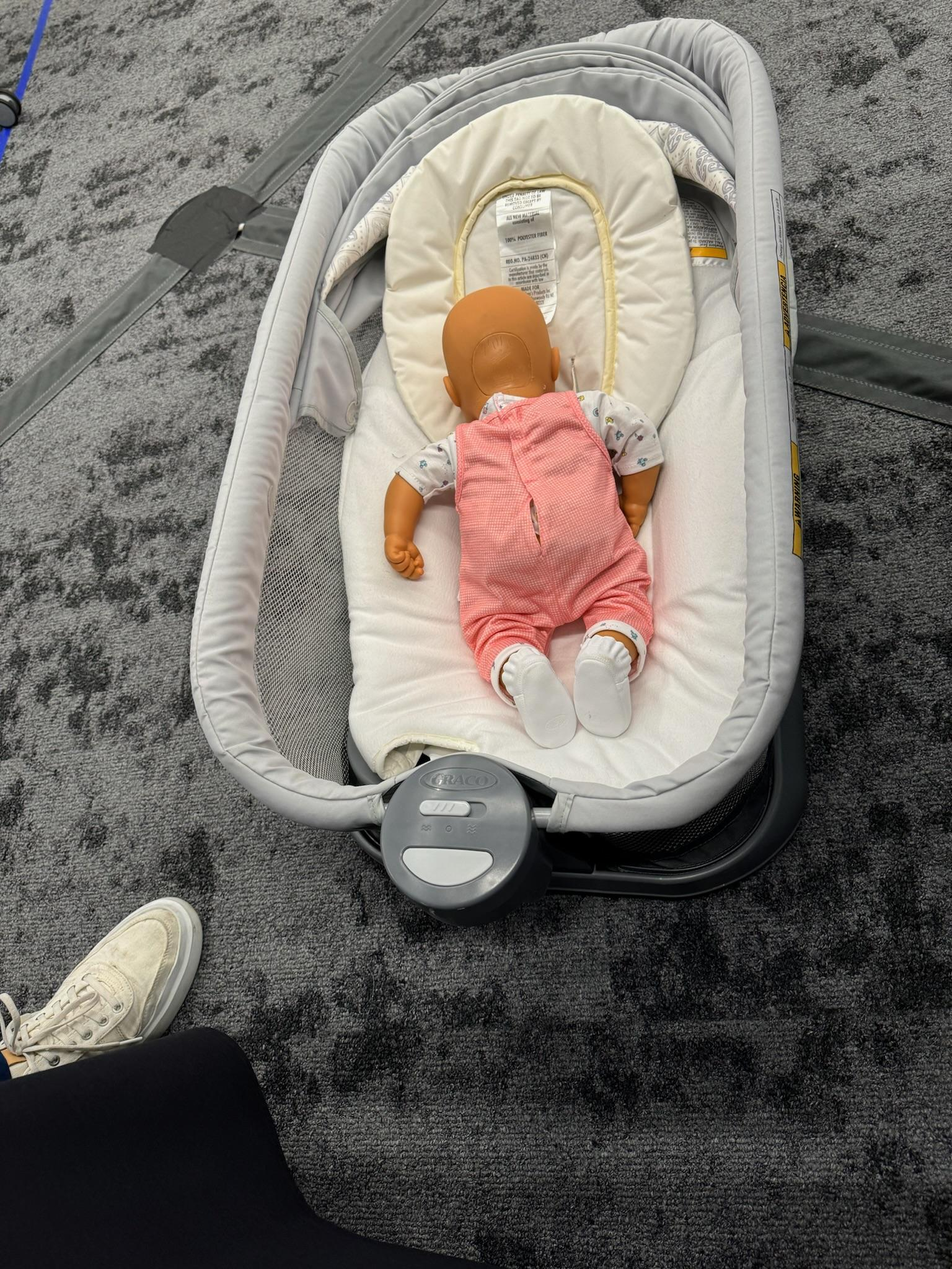baby: (378, 281, 704, 747)
